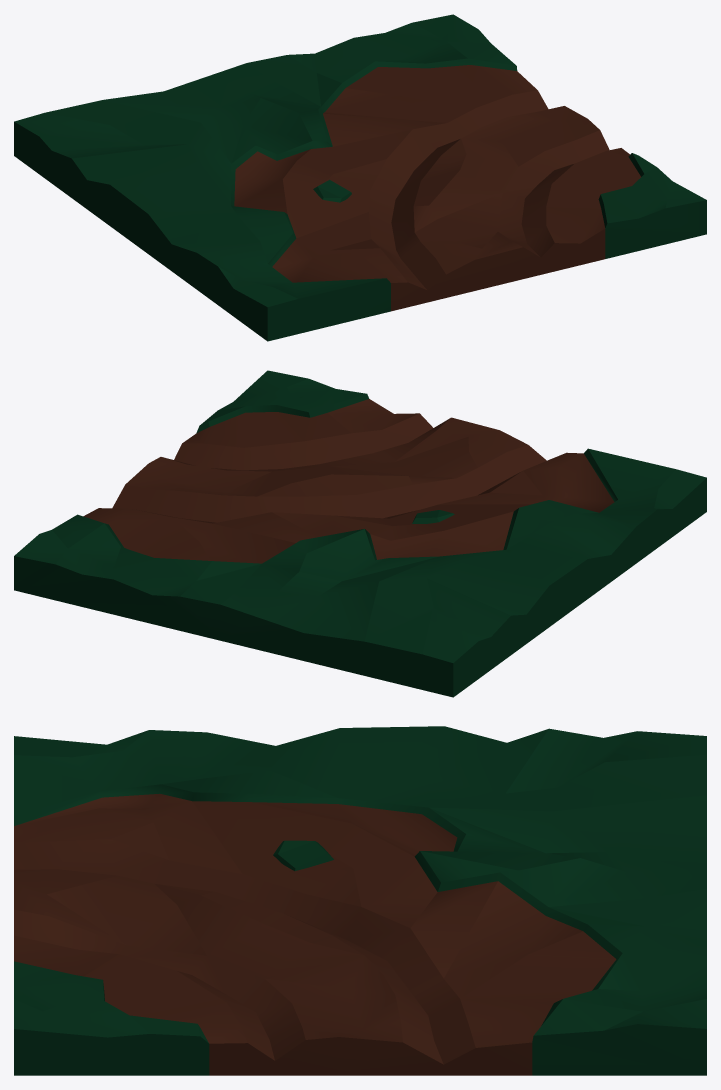
The model's file is Ground_Road_Turn_LU_1.fbx.
3 renders of one model, top to bottom at view 1: azimuth 30°, elevation 25°; view 2: azimuth 150°, elevation 25°; view 3: azimuth 270°, elevation 25°, orthographic. The views are drawn at different scales.
Visible parts, largest first — view 1: Ground_Road_Turn_LU_1; view 2: Ground_Road_Turn_LU_1; view 3: Ground_Road_Turn_LU_1.
Boxes of the visible parts, <box> form: Ground_Road_Turn_LU_1: <box>14,14,706,341</box>; Ground_Road_Turn_LU_1: <box>14,370,706,697</box>; Ground_Road_Turn_LU_1: <box>14,726,706,1075</box>.
Bounding box in the file's own units: 147 × 14.69 × 147.
